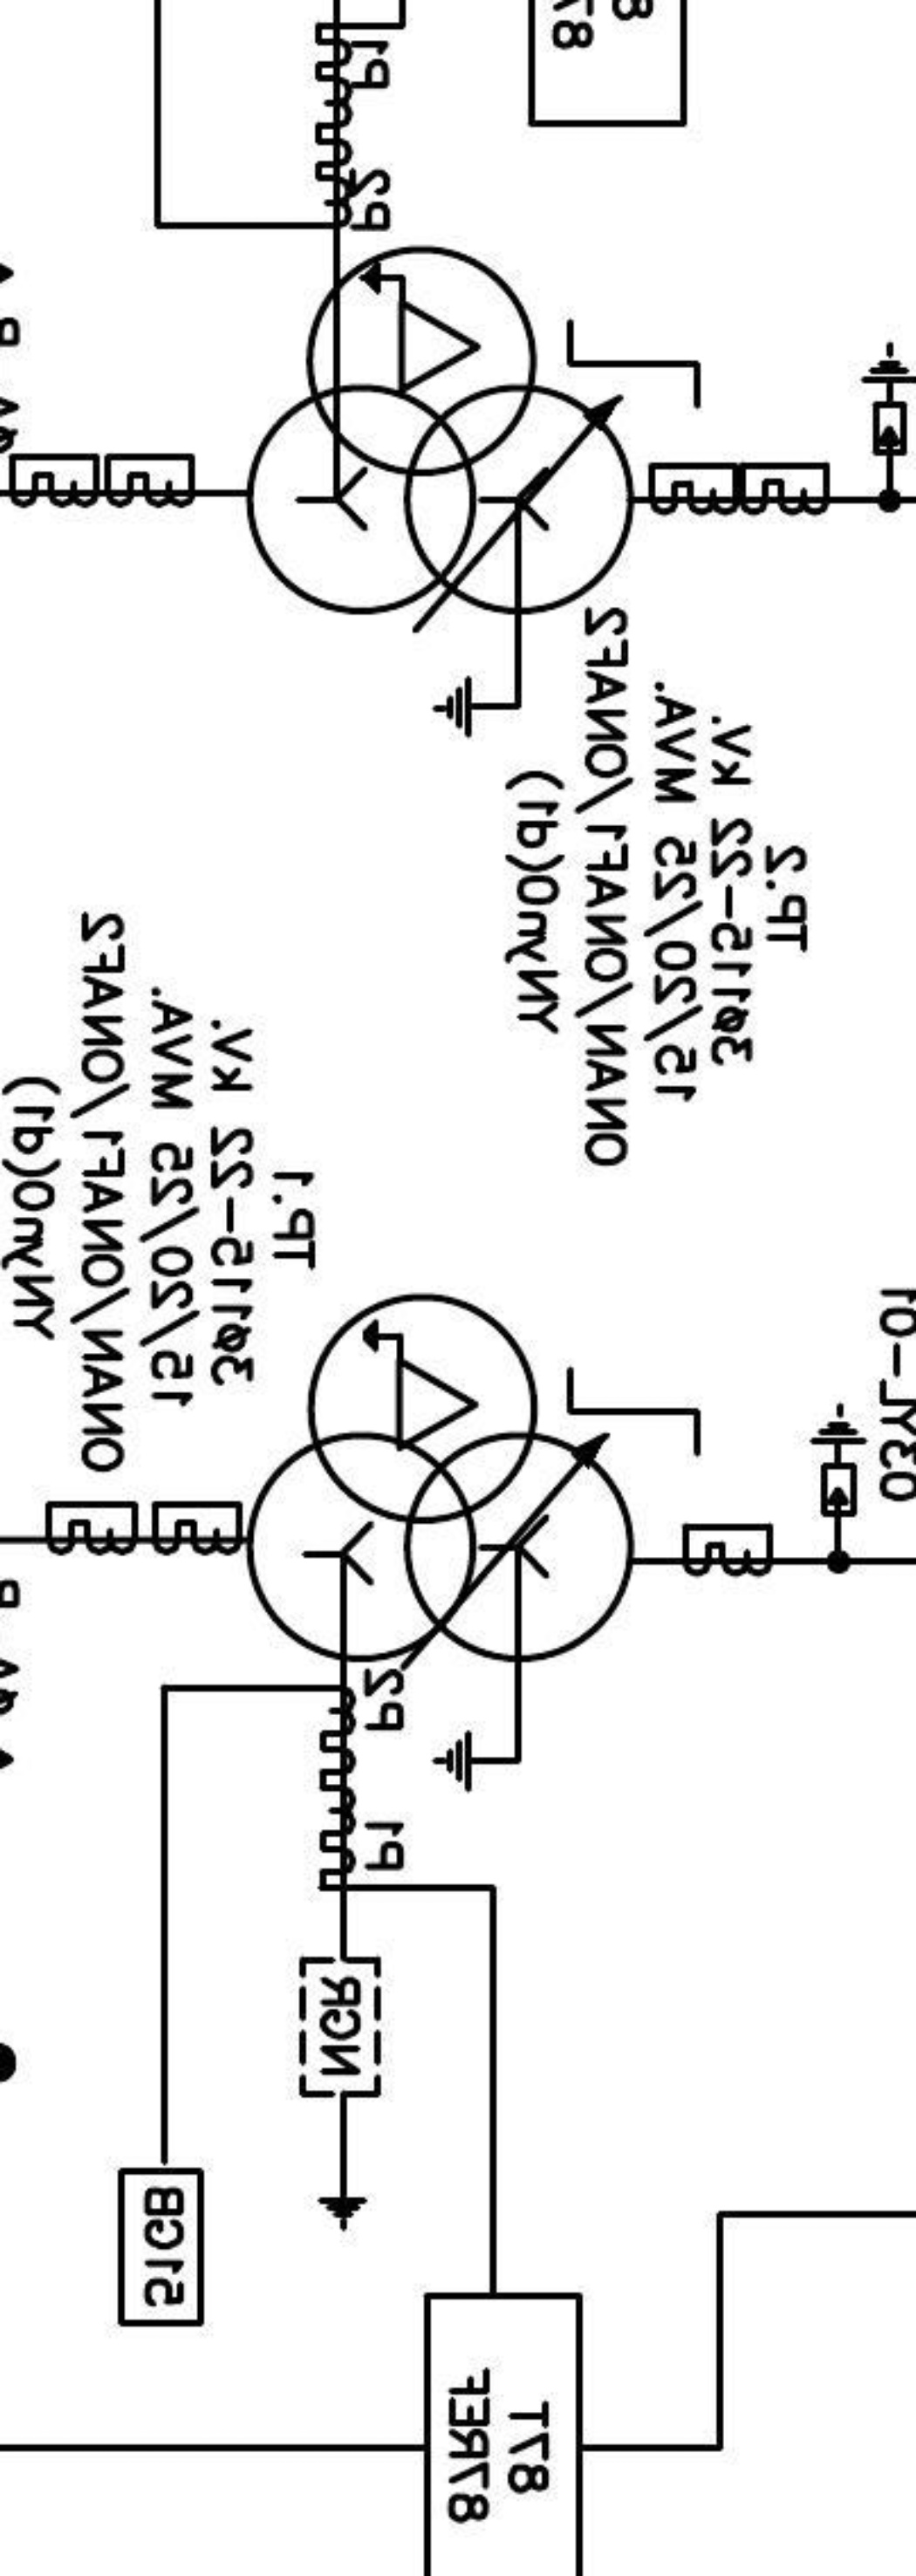11522_tx_ynyn0d1: (243, 1290, 637, 1664), (243, 243, 637, 618)
115_la: (809, 1402, 869, 1519)
NGR_future: (297, 1955, 382, 2232)
